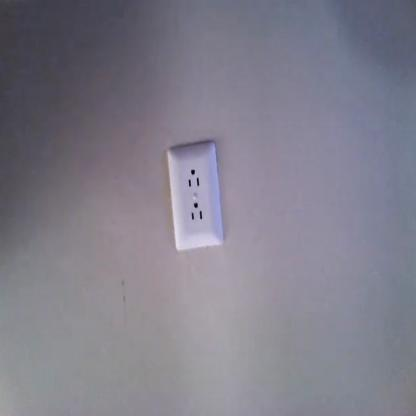OUTLET: (168, 140, 222, 252)
